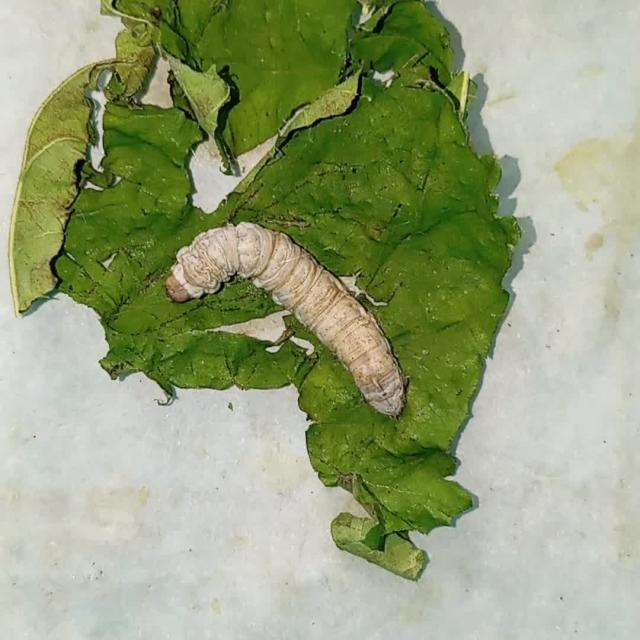Grasserie: (159, 198, 459, 428)
